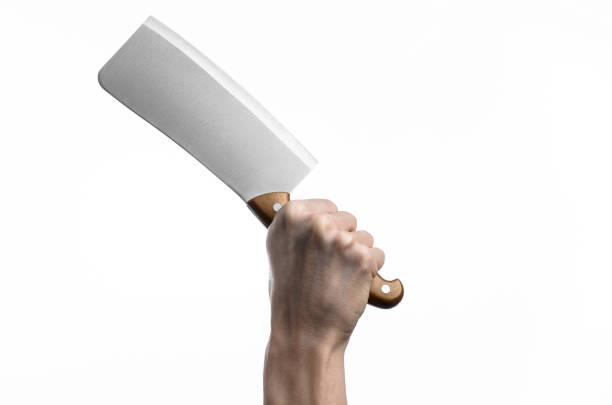knife: (88, 11, 410, 312)
